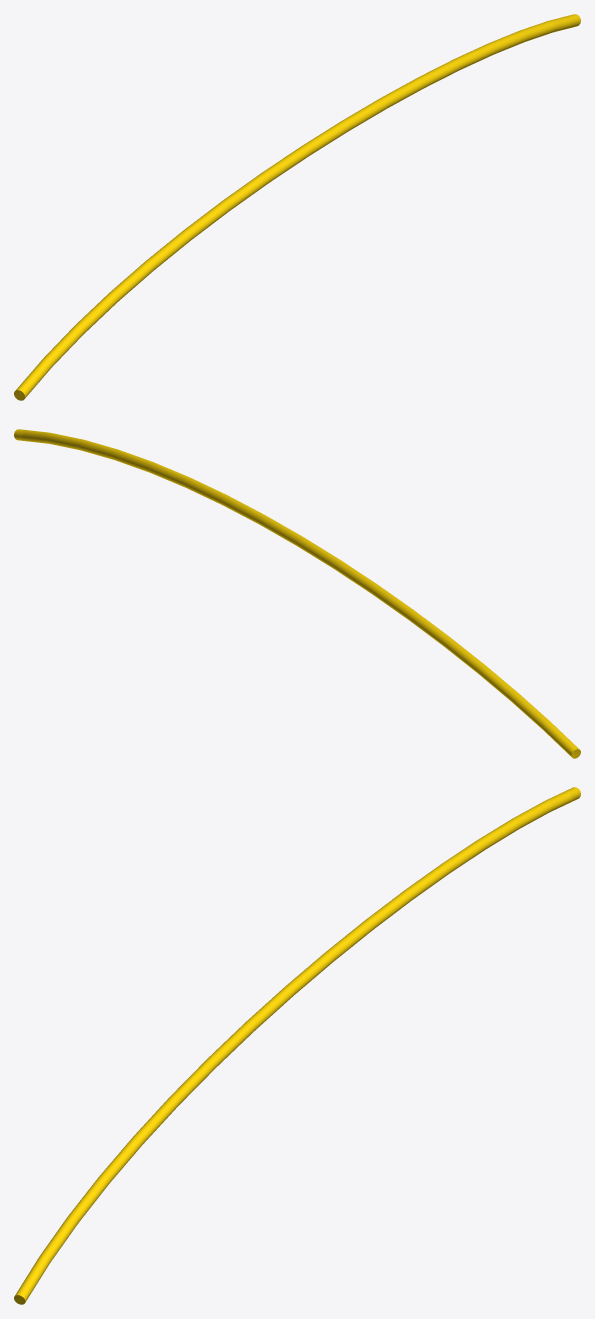
Rendered from Event_420094457_track_42.fbx.
3 views of the same model, one above another, from view 1: azimuth 90°, elevation 25°; view 2: azimuth 150°, elevation 25°; view 3: azimuth 270°, elevation 25° (orthographic). The views are drawn at different scales.
Parts seen in each view (by area): view 1: Model; view 2: Model; view 3: Model.
Boxes of the visible parts, bbox=[...] form: Model: bbox=[14, 14, 580, 400]; Model: bbox=[14, 429, 580, 758]; Model: bbox=[14, 787, 580, 1304].
Bounding box in the file's own units: 3.34 × 0.3717 × 1.81.
